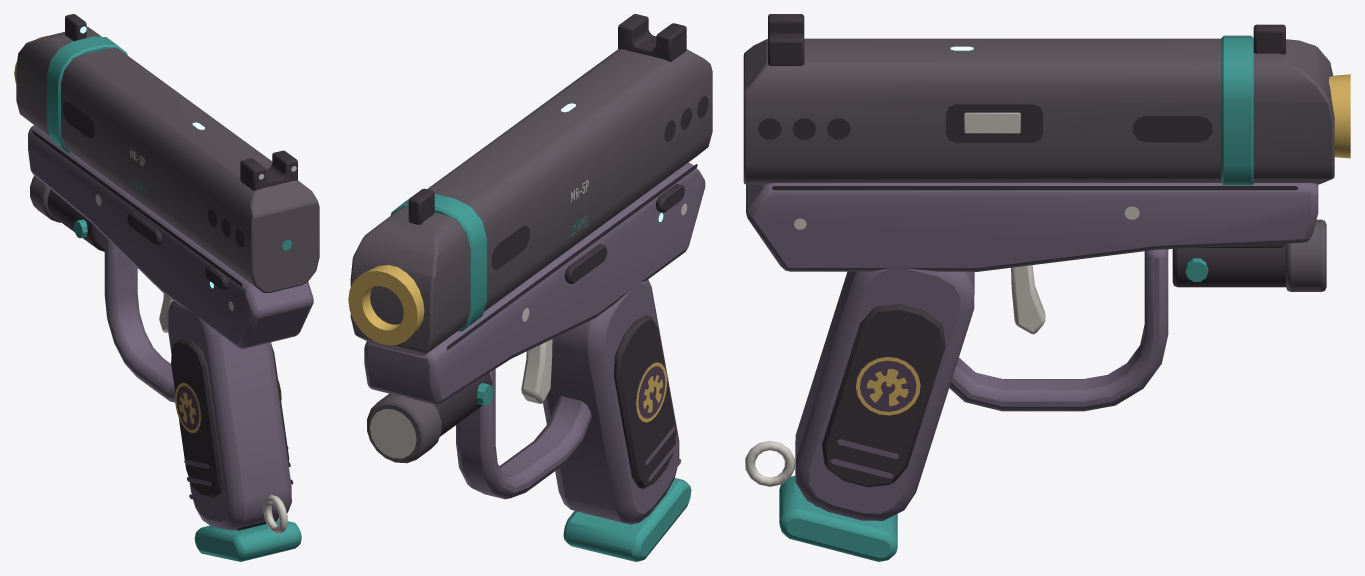
File: monatium_pistol.glb
3 renders of one model, left to right at view 1: azimuth 30°, elevation 25°; view 2: azimuth 150°, elevation 25°; view 3: azimuth 270°, elevation 25°, orthographic. The views are drawn at different scales.
Visible parts, largest first — view 1: body, slide, mag, body_fine, slide_fine; view 2: slide, body, body_fine, mag, slide_fine, trigger, safety; view 3: body, slide, body_fine, slide_fine, mag, trigger.
Part boxes in pixels (<box>): body: <box>28,125,313,534</box>; slide: <box>14,14,319,292</box>; mag: <box>194,518,301,561</box>; body_fine: <box>32,130,293,503</box>; slide_fine: <box>63,26,296,250</box>; slide: <box>348,14,712,355</box>; body: <box>364,162,705,524</box>; body_fine: <box>370,164,697,497</box>; mag: <box>563,478,691,561</box>; slide_fine: <box>491,96,708,269</box>; trigger: <box>521,339,552,403</box>; safety: <box>656,184,684,212</box>; body: <box>745,183,1326,520</box>; slide: <box>743,14,1350,185</box>; body_fine: <box>772,186,1298,497</box>; slide_fine: <box>758,46,1212,142</box>; mag: <box>779,476,897,561</box>; trigger: <box>1011,265,1045,334</box>.
Bounding box in the file's own units: 0.0294 × 0.1414 × 0.1506.
